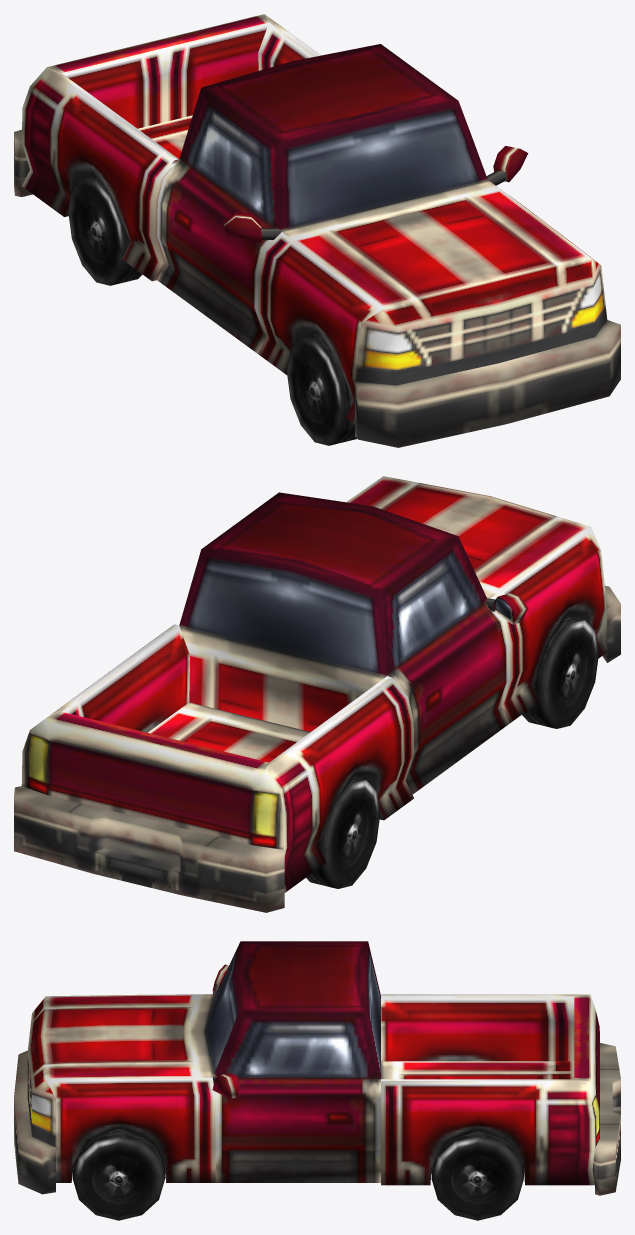
File: pickUpColour.fbx
3 views of the same model, one above another, from view 1: azimuth 30°, elevation 25°; view 2: azimuth 150°, elevation 25°; view 3: azimuth 270°, elevation 25° (orthographic). The views are drawn at different scales.
Parts seen in each view (by area): view 1: Pickup_Truck; view 2: Pickup_Truck; view 3: Pickup_Truck.
Part boxes in pixels (left/top/right/bottom): Pickup_Truck: left=14, top=14, right=620, bottom=447; Pickup_Truck: left=14, top=476, right=620, bottom=912; Pickup_Truck: left=14, top=941, right=620, bottom=1220.
Size of the model in its own units: 268 by 201 by 563.
